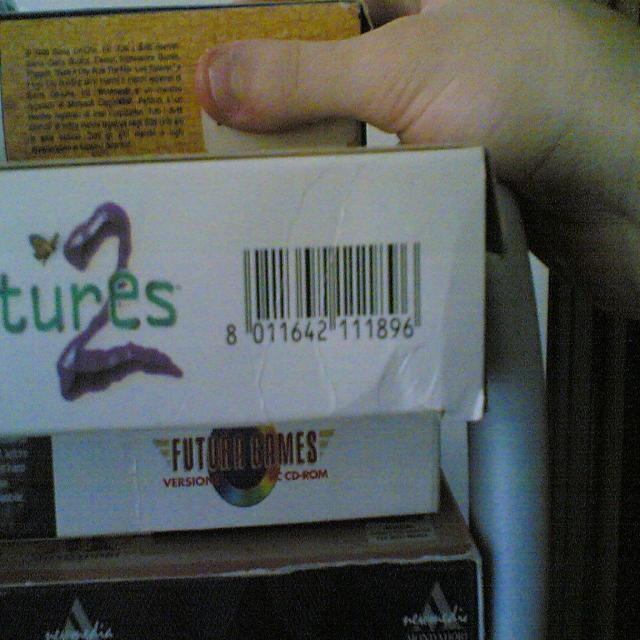barcode: (225, 240, 441, 348)
